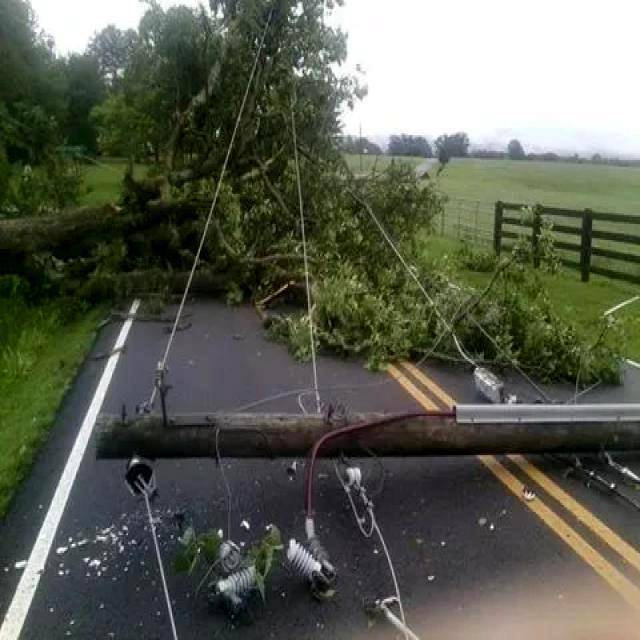Broken Pole: (92, 396, 640, 597)
